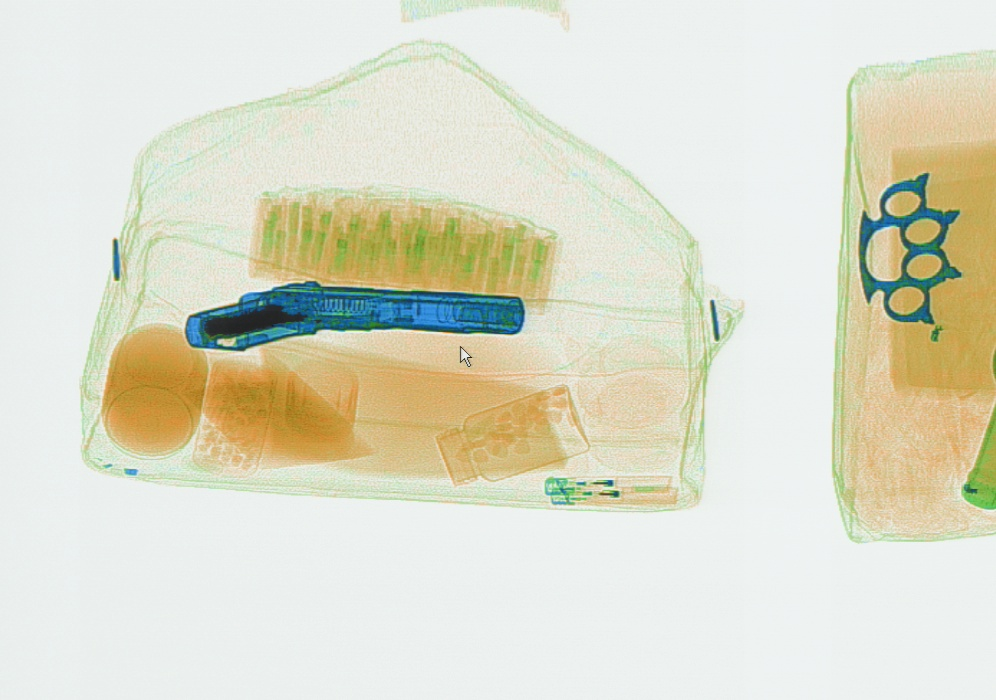firecrackers: (246, 180, 560, 315)
lighter: (543, 473, 671, 496), (548, 487, 679, 505)
